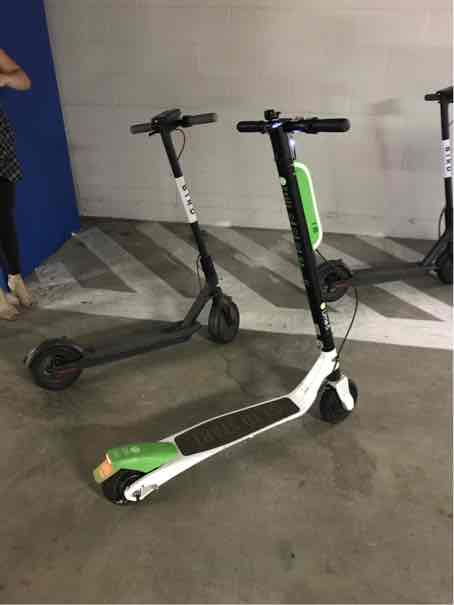scooter: (92, 92, 365, 506), (9, 103, 247, 412)
